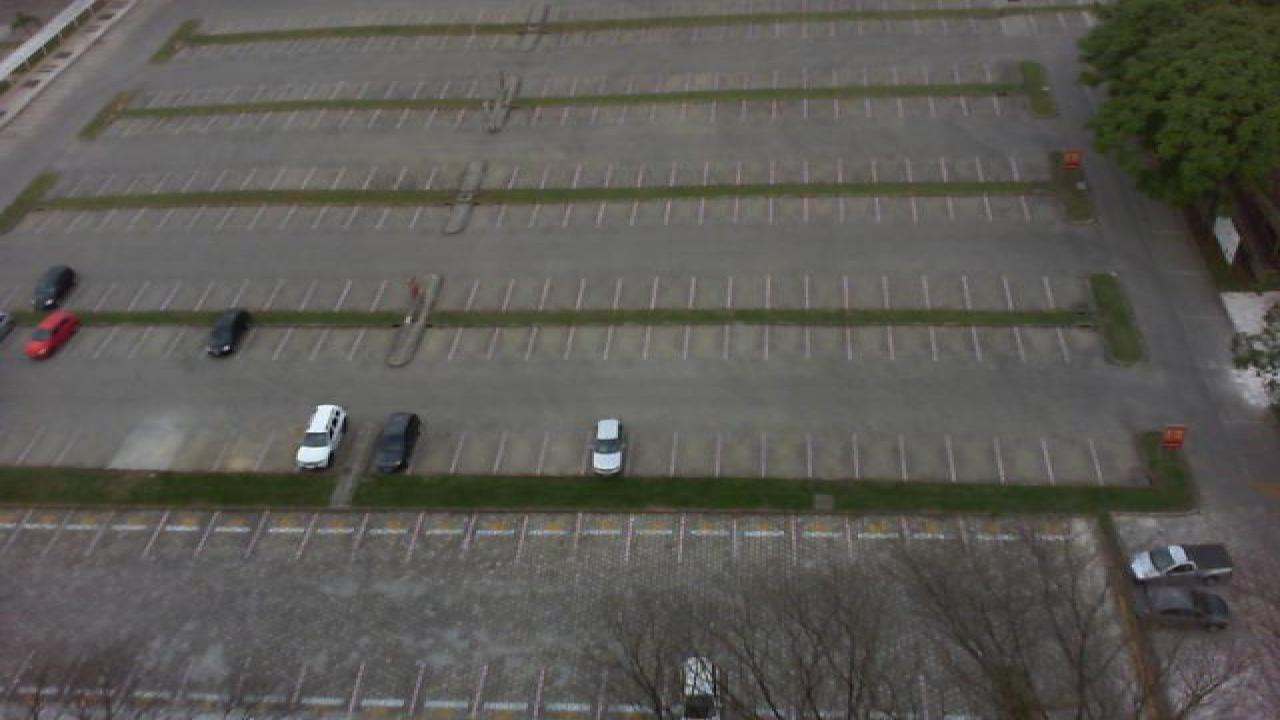Car: (1126, 542, 1234, 583), (1144, 586, 1230, 628), (294, 404, 348, 470), (370, 412, 422, 476), (22, 308, 80, 360), (680, 656, 720, 720), (202, 307, 252, 358), (30, 264, 76, 314), (588, 418, 626, 476)
